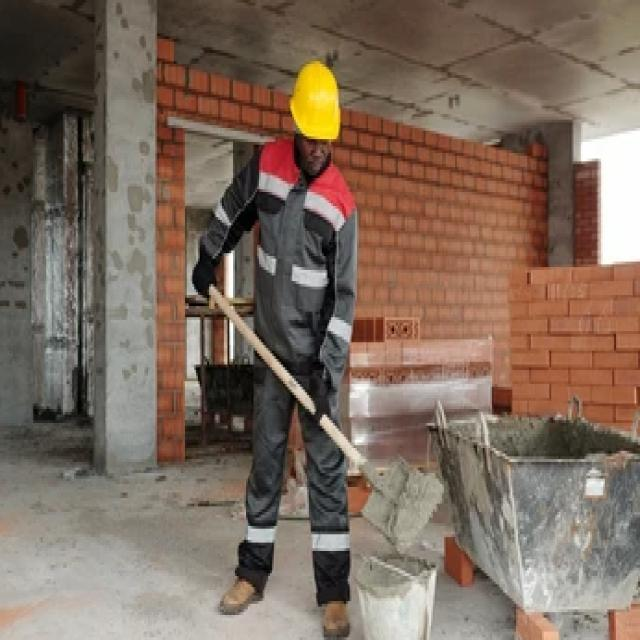hard_hat: (288, 59, 344, 177)
shoes: (215, 559, 352, 639)
